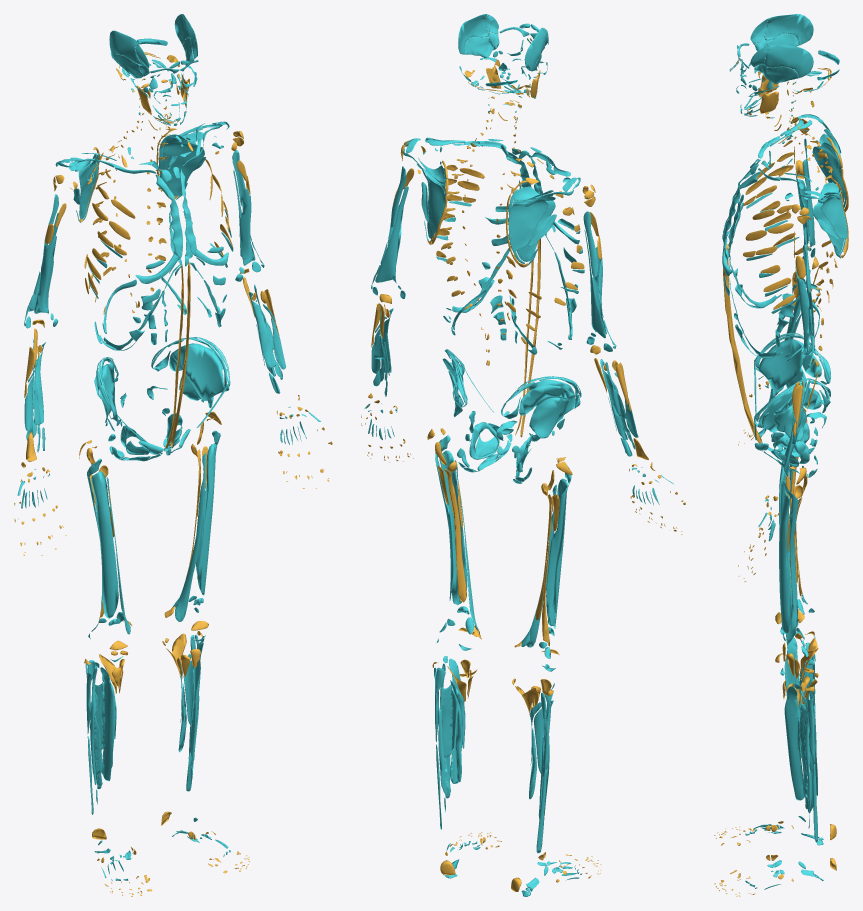
3 renders of one model, left to right at view 1: azimuth 30°, elevation 25°; view 2: azimuth 150°, elevation 25°; view 3: azimuth 270°, elevation 25°, orthographic. The views are drawn at different scales.
Parts seen in each view (by area): view 1: attachment_vastus_intermedius_muscle_or, attachment_iliacus_muscle_ol, attachment_subscapularis_muscle_ol, attachment_vastus_intermedius_muscle_ol, attachment_tibialis_anterior_muscle_or, attachment_vastus_medialis_muscle_ol, attachment_brachialis_muscle_or, attachment_brachialis_muscle_ol, attachment_ulnar_head_of_flexor_carpi_ulnaris_ol, attachment_temporalis_muscle_o2r, attachment_rectus_abdominis_muscle_el; view 2: attachment_infraspinatus_muscle_or, attachment_vastus_intermedius_muscle_ol, attachment_vastus_lateralis_muscle_or, attachment_gluteus_minimus_muscle_or, attachment_adductor_magnus_el, attachment_medial_head_of_triceps_brachii_ol, attachment_tibialis_posterior_muscle_ol, attachment_gluteus_medius_muscle_or, attachment_infraspinatus_muscle_ol, attachment_temporalis_muscle_o2l, attachment_vastus_intermedius_muscle_or; view 3: attachment_iliacus_muscle_or, attachment_tibialis_anterior_muscle_ol, attachment_vastus_intermedius_muscle_ol, attachment_temporalis_muscle_o2l, attachment_temporalis_muscle_o2r, attachment_rectus_abdominis_muscle_el, attachment_vastus_lateralis_muscle_ol, attachment_infraspinatus_muscle_ol, attachment_subscapularis_muscle_or, attachment_gluteus_minimus_muscle_ol, attachment_brachialis_muscle_ol, attachment_iliacus_muscle_ol (+17 smaller).
Boxes of the visible parts, x1,y1,x2,y2 form: attachment_vastus_intermedius_muscle_or: (91, 471, 118, 618); attachment_iliacus_muscle_ol: (180, 343, 224, 400); attachment_subscapularis_muscle_ol: (163, 136, 204, 196); attachment_vastus_intermedius_muscle_ol: (197, 443, 217, 595); attachment_tibialis_anterior_muscle_or: (100, 667, 115, 781); attachment_vastus_medialis_muscle_ol: (175, 453, 206, 621); attachment_brachialis_muscle_or: (34, 235, 56, 313); attachment_brachialis_muscle_ol: (239, 188, 255, 265); attachment_ulnar_head_of_flexor_carpi_ulnaris_ol: (249, 292, 276, 367); attachment_temporalis_muscle_o2r: (109, 30, 139, 64); attachment_rectus_abdominis_muscle_el: (170, 262, 190, 446); attachment_infraspinatus_muscle_or: (508, 196, 555, 251); attachment_vastus_intermedius_muscle_ol: (439, 450, 467, 604); attachment_vastus_lateralis_muscle_or: (546, 465, 571, 626); attachment_gluteus_minimus_muscle_or: (529, 397, 569, 438); attachment_adductor_magnus_el: (444, 469, 481, 639); attachment_medial_head_of_triceps_brachii_ol: (375, 186, 408, 282); attachment_tibialis_posterior_muscle_ol: (441, 684, 456, 757); attachment_gluteus_medius_muscle_or: (519, 385, 574, 415); attachment_infraspinatus_muscle_ol: (417, 163, 445, 231); attachment_temporalis_muscle_o2l: (458, 14, 489, 54); attachment_vastus_intermedius_muscle_or: (553, 478, 567, 628); attachment_iliacus_muscle_or: (758, 339, 805, 390); attachment_tibialis_anterior_muscle_ol: (784, 686, 804, 800); attachment_vastus_intermedius_muscle_ol: (779, 490, 790, 633); attachment_temporalis_muscle_o2l: (764, 44, 813, 77); attachment_temporalis_muscle_o2r: (764, 14, 813, 45); attachment_rectus_abdominis_muscle_el: (723, 247, 761, 443); attachment_vastus_lateralis_muscle_ol: (783, 479, 798, 629); attachment_infraspinatus_muscle_ol: (820, 194, 847, 239); attachment_subscapularis_muscle_or: (812, 145, 844, 202); attachment_gluteus_minimus_muscle_ol: (774, 405, 806, 441); attachment_brachialis_muscle_ol: (795, 266, 809, 352); attachment_iliacus_muscle_ol: (758, 383, 805, 432).
Bounding box in the file's own units: 0.6794 × 1.7 × 0.2484.
